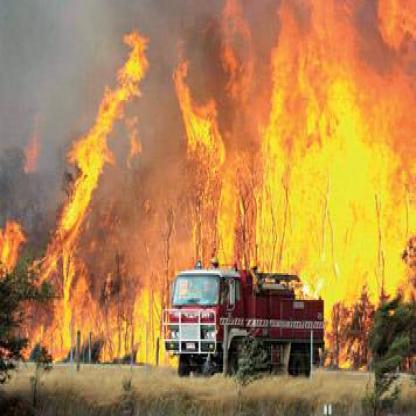fire: (177, 7, 414, 284), (39, 11, 161, 354), (320, 284, 367, 369), (0, 210, 29, 278)
